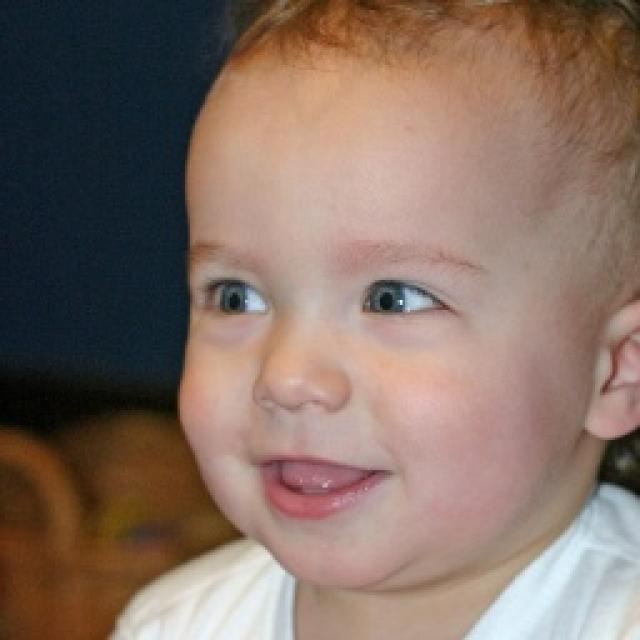earlobe: (586, 403, 639, 440)
eye: (361, 282, 449, 317), (200, 279, 272, 315)
nose: (258, 392, 345, 444)
wholeear: (585, 296, 640, 440)
